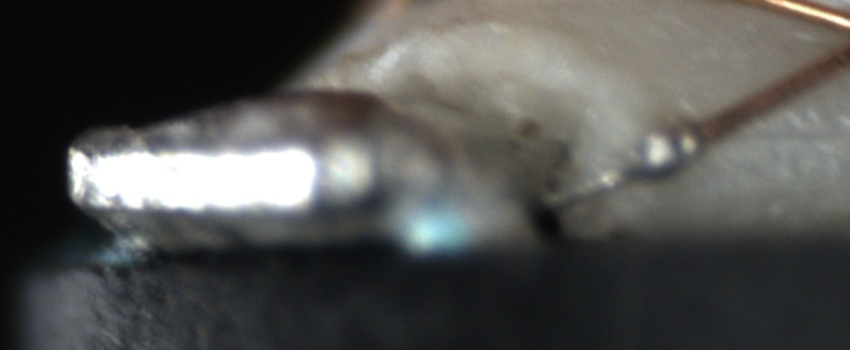DL: (737, 101, 849, 163)
TB: (629, 118, 707, 187)
TS: (542, 127, 700, 209)
TTCW: (533, 96, 749, 211)
